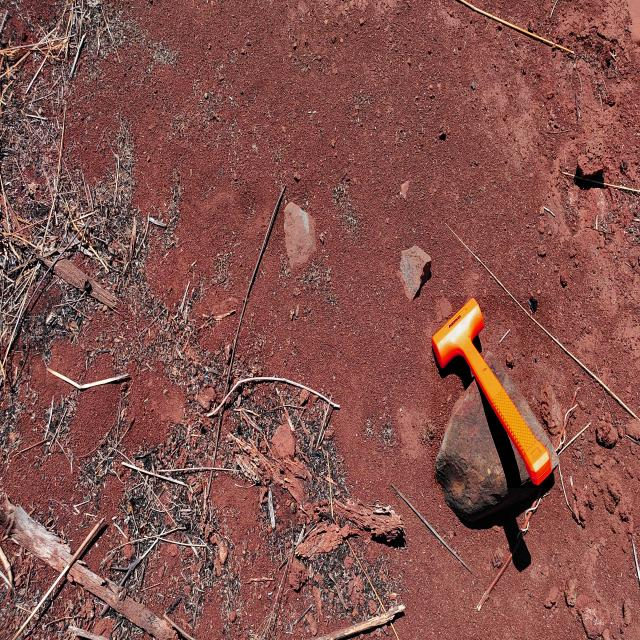Orange_hammer: (431, 296, 552, 488)
